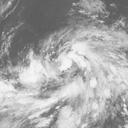cyclone: (37, 38, 98, 103)
